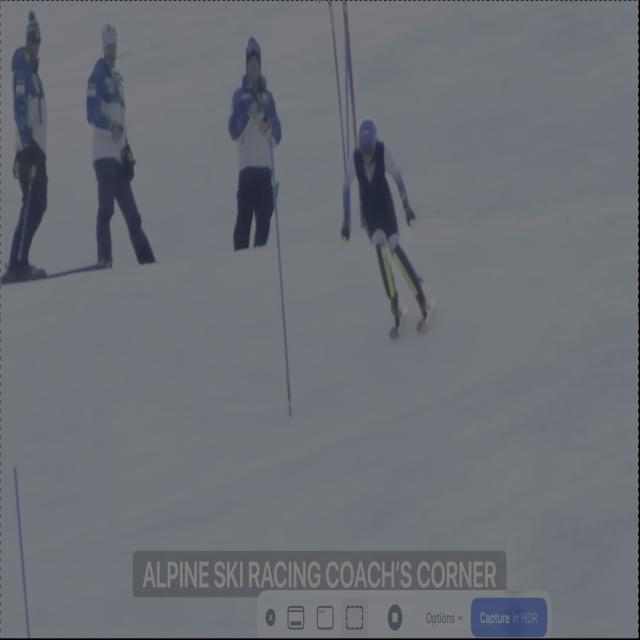gate: (264, 108, 302, 429)
